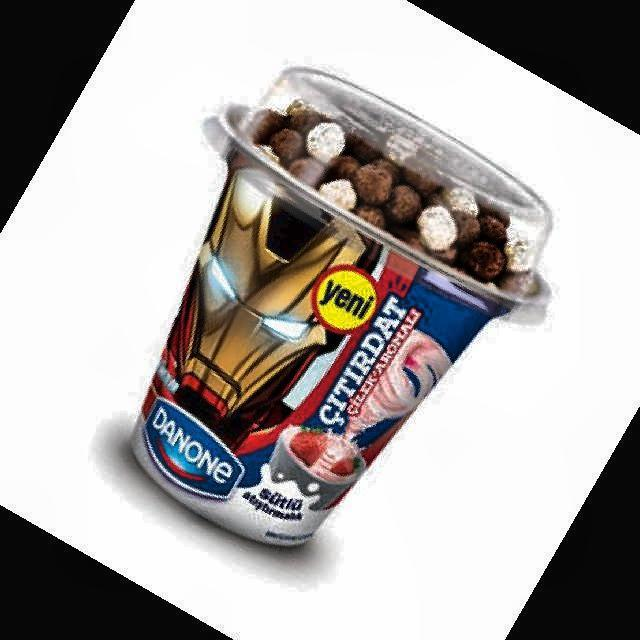plastic: (131, 68, 550, 546)
